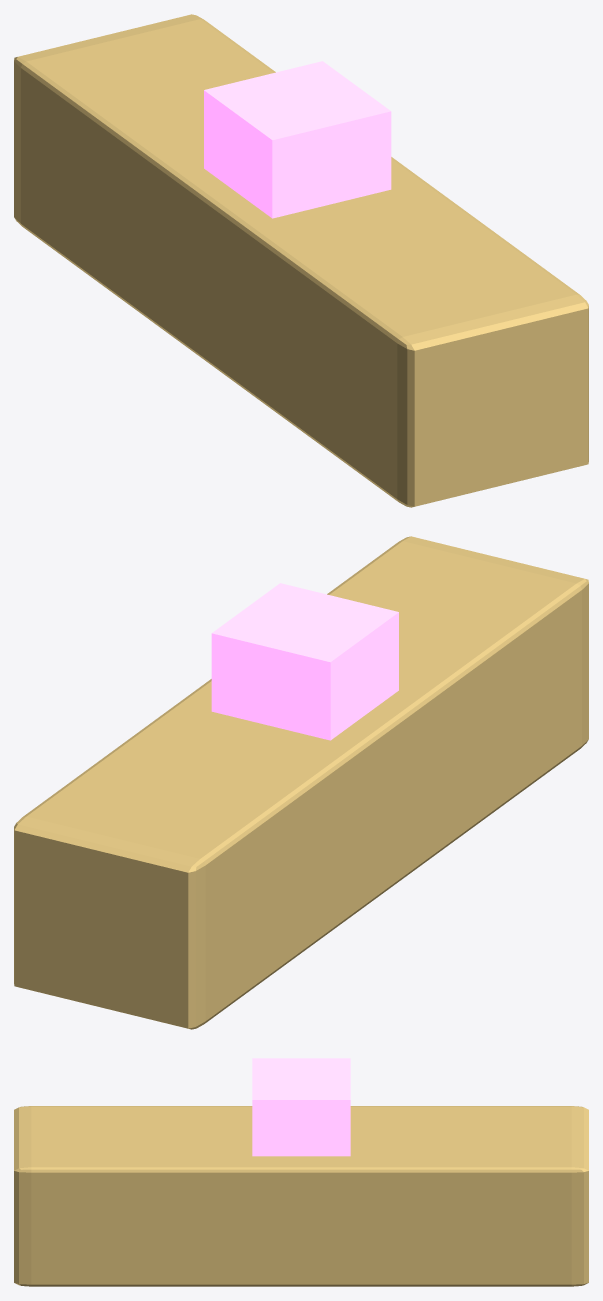
Rendered from SM_Keeper_OverlordEcho_Frag0.fbx.
3 renders of one model, top to bottom at view 1: azimuth 30°, elevation 25°; view 2: azimuth 150°, elevation 25°; view 3: azimuth 270°, elevation 25°, orthographic. The views are drawn at different scales.
Parts seen in each view (by area): view 1: SM_Keeper_OverlordEcho_Frag0; view 2: SM_Keeper_OverlordEcho_Frag0; view 3: SM_Keeper_OverlordEcho_Frag0.
Part boxes in pixels (<box>): SM_Keeper_OverlordEcho_Frag0: <box>14,14,588,507</box>; SM_Keeper_OverlordEcho_Frag0: <box>14,536,588,1029</box>; SM_Keeper_OverlordEcho_Frag0: <box>14,1058,588,1286</box>.
Size of the model in its own units: 1.56 by 1.96 by 5.83.
